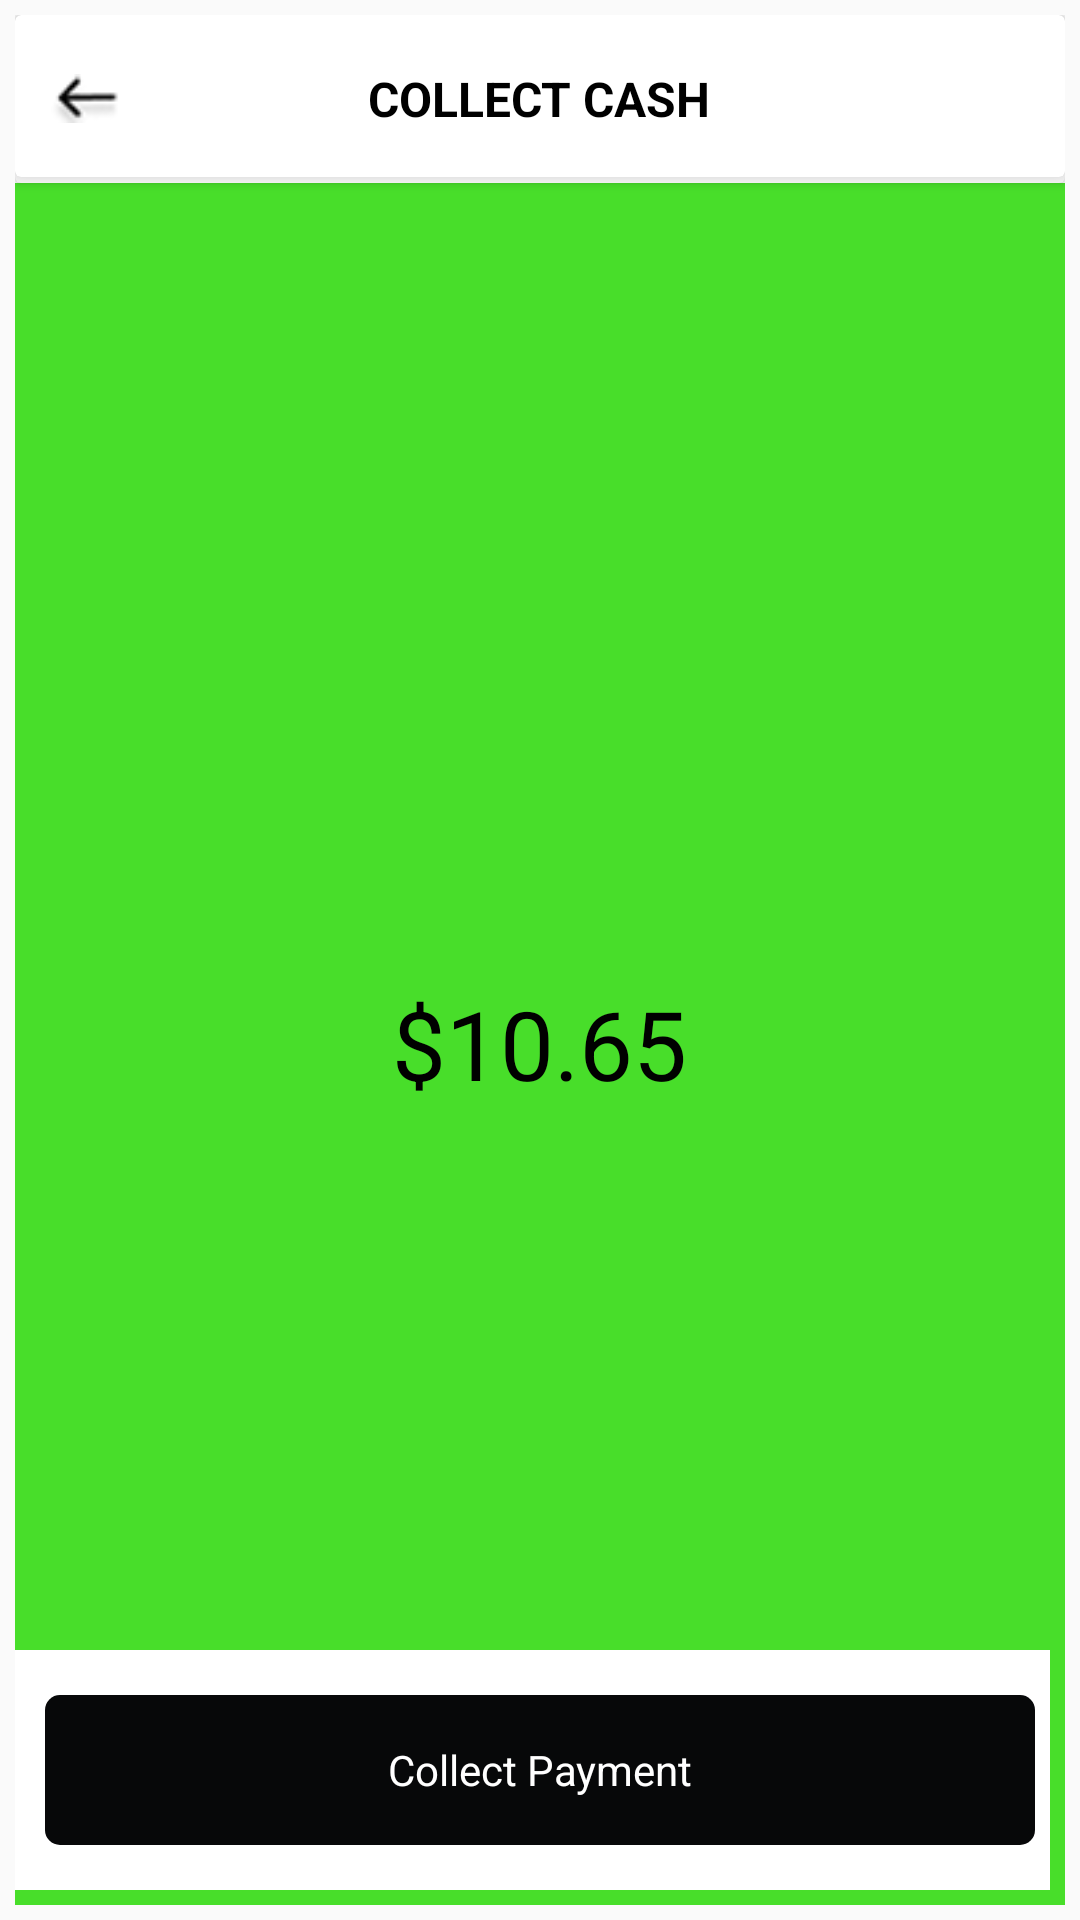

Point at icon controls on the screen. Image size 1080px×1920px, points as point (x, y).
back: point (87, 99)
